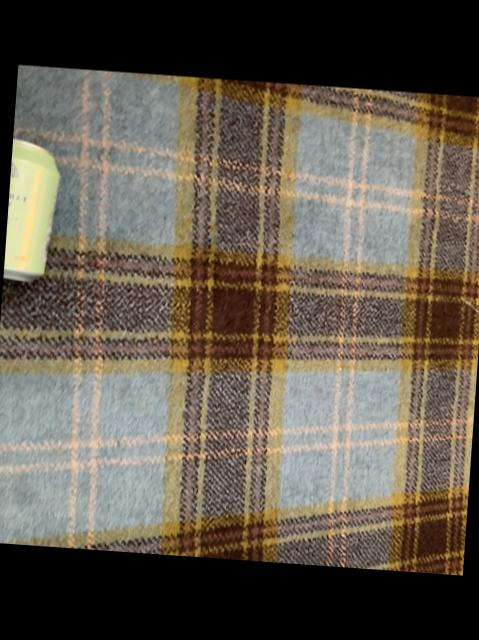metal: (2, 140, 58, 281)
